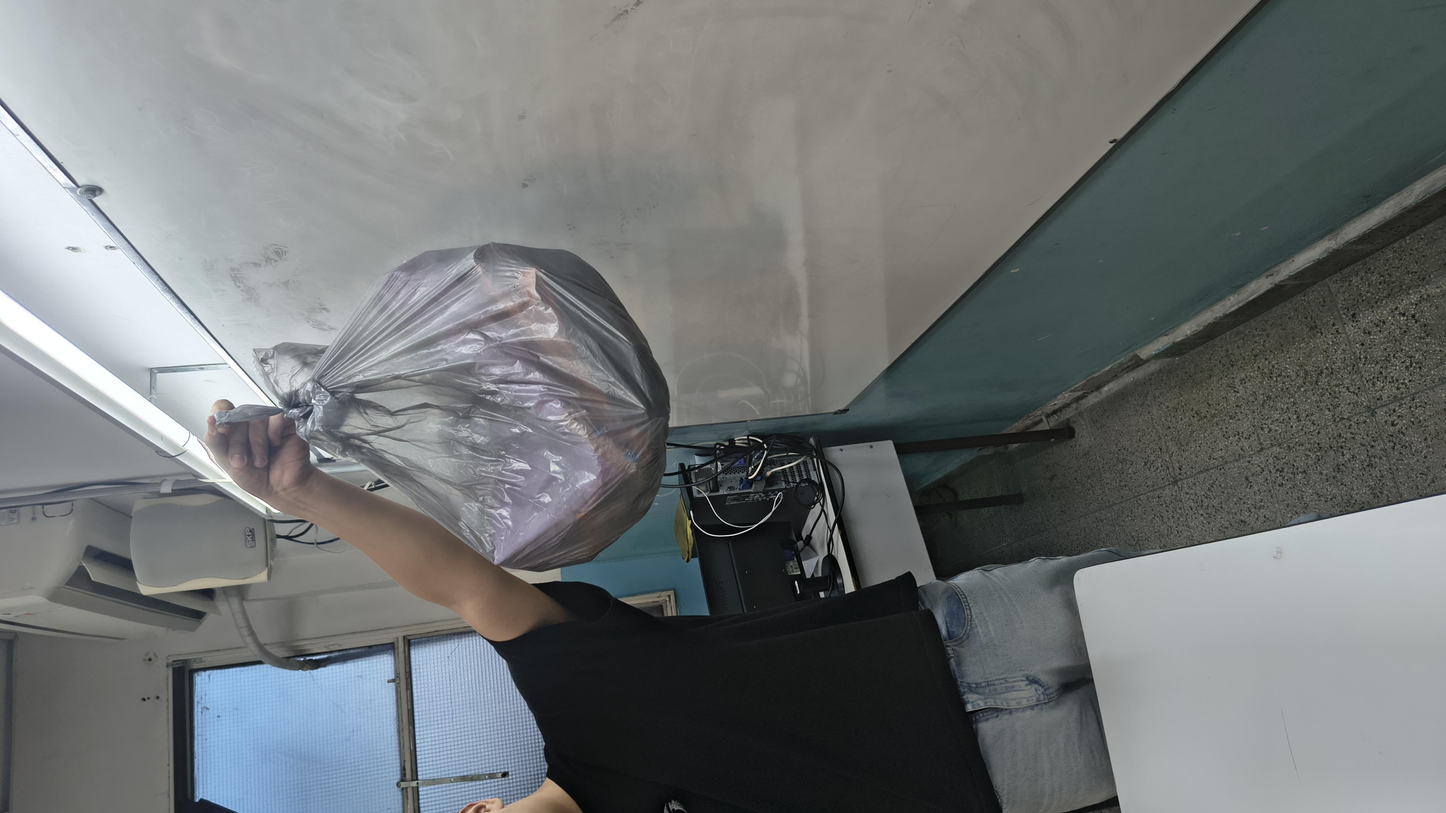Garbage: (326, 111, 1123, 399)
